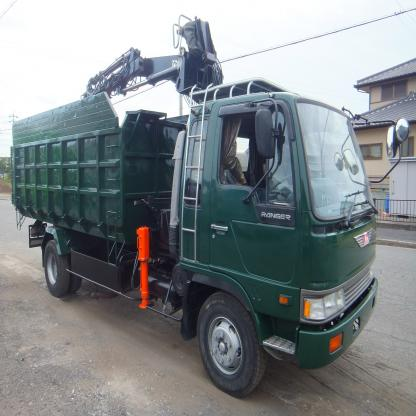dump_truck: (9, 16, 391, 392)
